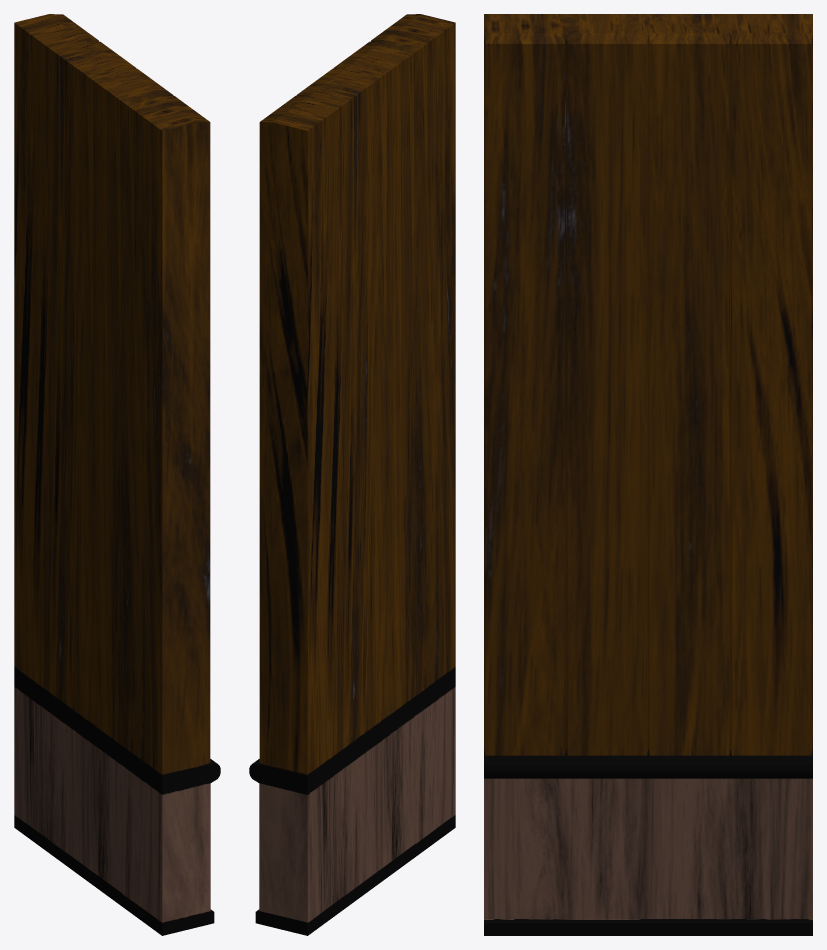
File: woodWall1.fbx
The picture shows the model from 3 angles, left to right: view 1: azimuth 30°, elevation 25°; view 2: azimuth 150°, elevation 25°; view 3: azimuth 270°, elevation 25°; orthographic projection. The views are drawn at different scales.
Parts seen in each view (by area): view 1: WoodWall1Unity; view 2: WoodWall1Unity; view 3: WoodWall1Unity.
Part boxes in pixels (<box>): WoodWall1Unity: <box>14,14,220,935</box>; WoodWall1Unity: <box>249,14,455,935</box>; WoodWall1Unity: <box>484,14,812,935</box>.
Size of the model in its own units: 22.84 by 300 by 100.
